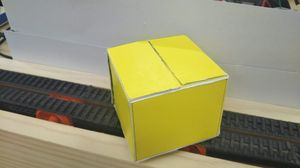box4: (105, 34, 228, 161)
